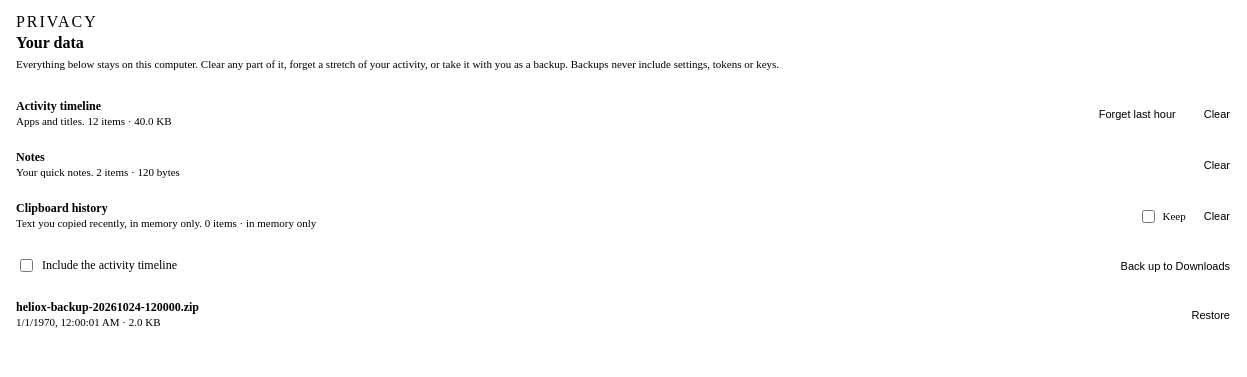
YourDataPanel › turns clipboard history on from its row and shows it is memory only
Check: the text "Clipboard history" is shown, box [16,201,108,215]
Check: the text "in memory only" is shown, box [16,217,316,229]
Click the checkbox labelled "Keep": [1149, 216] box [1142,210,1156,223]
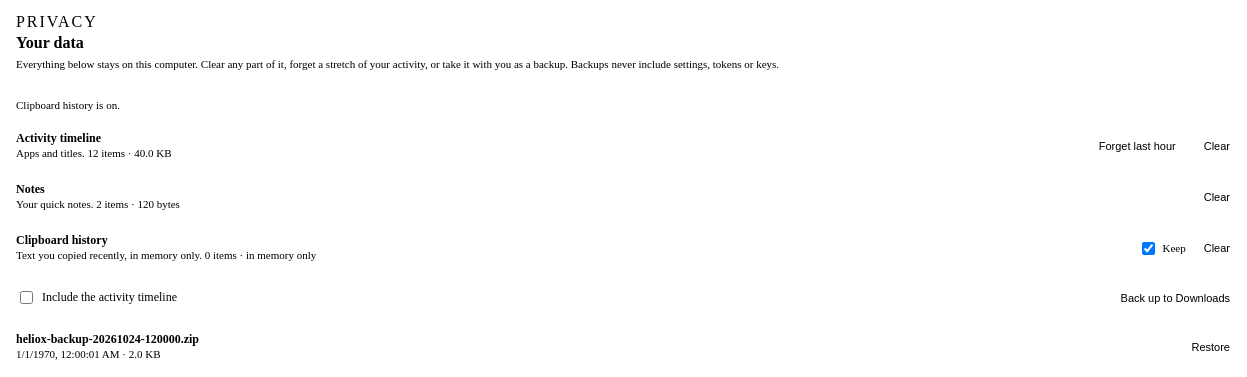
Check: the text "Clipboard history is on." is shown, box [16,99,120,111]
